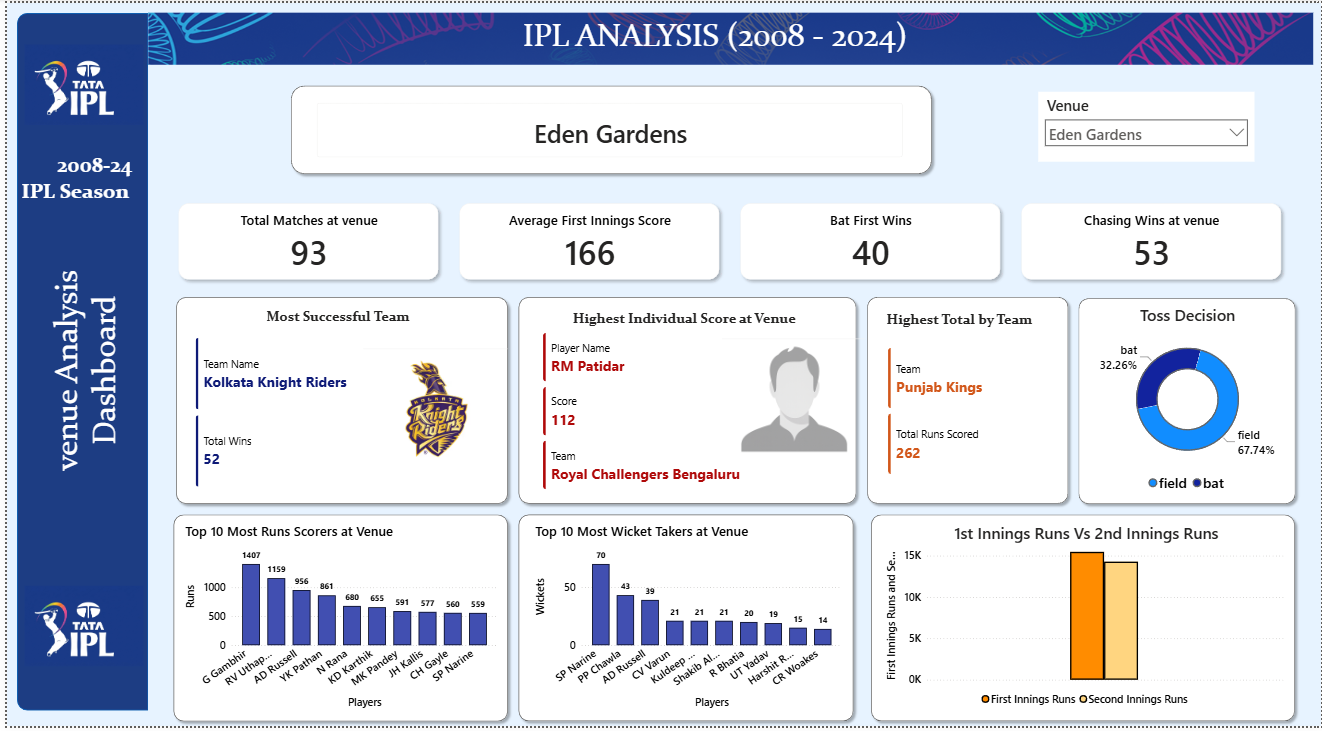

This screenshot's page, from the dashboard's own definition file:
{"tool":"powerbi","page":{"name":"Venue Analysis Dashboard ","canvas":[2000,1100],"ordinal":4},"visuals":[{"type":"shape","box":[1621.1,440.9,345.9,328.8],"z":0},{"type":"shape","box":[249,439,520.7,330.7],"z":1000},{"type":"shape","box":[15.2,15.2,199.6,1060.5],"z":2000},{"type":"image","box":[214.8,1.9,1771.3,104.5],"z":3000},{"type":"textbox","box":[779.2,15.2,600.6,76],"z":4000},{"type":"cardVisual","fields":{"Data":["ipl_analysis matches.Total Matches at venue","ipl_analysis matches.Average First Innings Score","ipl_analysis matches.Bat First Wins","ipl_analysis matches.Chasing Wins at venue"]},"box":[231.9,275.6,1735.2,174.8],"z":5000},{"type":"shape","box":[36.1,326.9,165.3,463.7],"z":6000},{"type":"image","box":[26.6,55.1,180.5,138.7],"z":7000},{"type":"image","box":[26.6,878,180.5,138.7],"z":8000},{"type":"textbox","box":[17.1,222.4,231.9,104.5],"z":9000},{"type":"slicer","fields":{"Values":["ipl_analysis matches.venue"]},"box":[1567.9,134.9,328.8,106.4],"z":10000},{"type":"shape","box":[423.8,117.8,990.2,150.1],"z":11000},{"type":"cardVisual","fields":{"Data":["Min(ipl_analysis matches.venue)"]},"box":[454.2,134.9,925.5,117.8],"z":12000},{"type":"cardVisual","fields":{"Data":["ipl_analysis matches.Most Successful Team","ipl_analysis matches.Most Successful Team Wins"]},"box":[269.9,492.2,370.6,260.4],"z":13000},{"type":"cardVisual","fields":{"Data":["ipl_analysis matches.Most Successful Team Logo"]},"box":[524.5,326.9,254.7,397.2],"z":14000},{"type":"textbox","box":[389.6,458,237.6,66.5],"z":15000},{"type":"shape","box":[1299.3,439.5,321.6,330.2],"z":16000},{"type":"cardVisual","fields":{"Data":["ipl_analysis matches.Highest Team","ipl_analysis matches.Highest Team Total"]},"box":[1322.9,508.1,274.4,227.3],"z":17000},{"type":"textbox","box":[1331.5,463.1,265.9,45],"z":18000},{"type":"shape","box":[769.7,439.5,529.6,330.2],"z":19000},{"type":"cardVisual","fields":{"Data":["ipl_analysis matches.Highest Individual Score Player at venue","ipl_analysis matches.Highest Individual Score at venue","ipl_analysis matches.Highest Individual Score Team"]},"box":[797.6,484.6,351.6,272.3],"z":20000},{"type":"cardVisual","fields":{"Data":["ipl_analysis matches.Highest Individual Score Player at venue"]},"box":[1070,311.7,252.8,397.2],"z":21000},{"type":"textbox","box":[855.5,461,355.9,47.2],"z":22000},{"type":"shape","box":[245.2,769.7,524.5,330.7],"z":23000},{"type":"columnChart","title":"Top 10 Most Runs Scorers at Venue","fields":{"Category":["ipl_analysis deliveries.batter"],"Y":["ipl_analysis matches.Runs Scorers at Venue"]},"box":[265.9,789,484.6,289.5],"z":24000},{"type":"shape","box":[769.7,769.7,525.3,330.2],"z":25000},{"type":"columnChart","title":"Top 10  Most Wicket Takers at Venue","fields":{"Category":["ipl_analysis deliveries.bowler"],"Y":["ipl_analysis matches.Wickets at Venue"]},"box":[797.6,789,476,289.5],"z":26000},{"type":"donutChart","title":"Toss Decision","fields":{"Category":["ipl_analysis matches.toss_decision"],"Y":["ipl_analysis matches.Matches for toss"]},"box":[1640.1,458,309.8,294.6],"z":27000},{"type":"shape","box":[1305.8,769.7,660.4,330.2],"z":28000},{"type":"clusteredColumnChart","title":"1st Innings Runs Vs 2nd Innings Runs","fields":{"Y":["ipl_analysis matches.First Innings Runs","ipl_analysis matches.Second Innings Runs"]},"box":[1331.5,789,617.5,289.5],"z":29000}]}

Visuals, with their boxes in screenshot pixels (x1, y1, x2, y2), scaled from the page's 2000x1100 canvas onto the 1322x731 screenshot:
shape: region(1072, 293, 1300, 512)
shape: region(165, 292, 509, 512)
shape: region(10, 10, 142, 715)
image: region(142, 1, 1313, 71)
textbox: region(515, 10, 912, 61)
cardVisual - ipl_analysis matches.Total Matches at venue x ipl_analysis matches.Average First Innings Score: region(153, 183, 1300, 299)
shape: region(24, 217, 133, 525)
image: region(18, 37, 137, 129)
image: region(18, 583, 137, 676)
textbox: region(11, 148, 165, 217)
slicer - ipl_analysis matches.venue: region(1036, 90, 1254, 160)
shape: region(280, 78, 935, 178)
cardVisual - Min(ipl_analysis matches.venue): region(300, 90, 912, 168)
cardVisual - ipl_analysis matches.Most Successful Team x ipl_analysis matches.Most Successful Team Wins: region(178, 327, 423, 500)
cardVisual - ipl_analysis matches.Most Successful Team Logo: region(347, 217, 515, 481)
textbox: region(258, 304, 415, 349)
shape: region(859, 292, 1071, 512)
cardVisual - ipl_analysis matches.Highest Team x ipl_analysis matches.Highest Team Total: region(874, 338, 1056, 489)
textbox: region(880, 308, 1056, 338)
shape: region(509, 292, 859, 512)
cardVisual - ipl_analysis matches.Highest Individual Score Player at venue x ipl_analysis matches.Highest Individual Score at venue: region(527, 322, 760, 503)
cardVisual - ipl_analysis matches.Highest Individual Score Player at venue: region(707, 207, 874, 471)
textbox: region(565, 306, 801, 338)
shape: region(162, 512, 509, 730)
"Top 10 Most Runs Scorers at Venue" columnChart: region(176, 524, 496, 717)
shape: region(509, 512, 856, 730)
"Top 10  Most Wicket Takers at Venue" columnChart: region(527, 524, 842, 717)
"Toss Decision" donutChart: region(1084, 304, 1289, 500)
shape: region(863, 512, 1300, 730)
"1st Innings Runs Vs 2nd Innings Runs" clusteredColumnChart: region(880, 524, 1288, 717)
